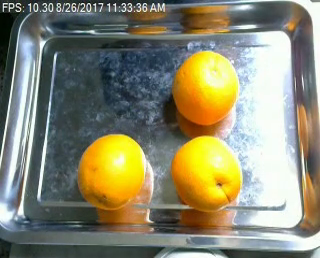Orange: (77, 133, 147, 211), (170, 136, 241, 212), (171, 50, 240, 125)
